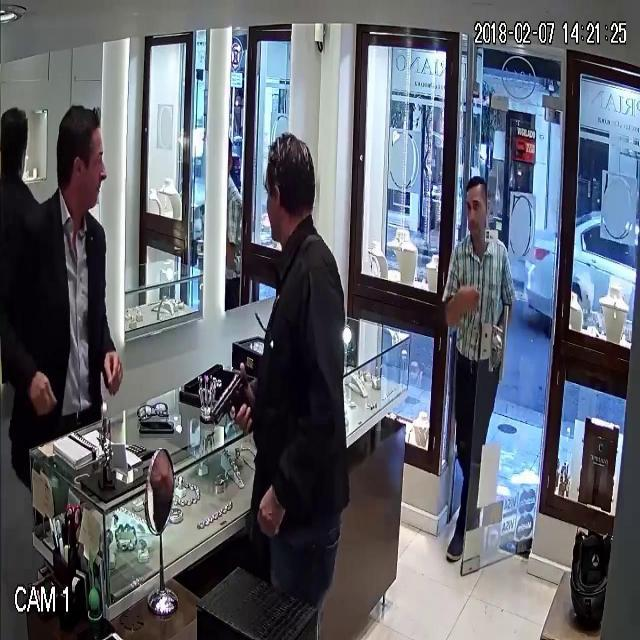weapon: (200, 350, 258, 454)
